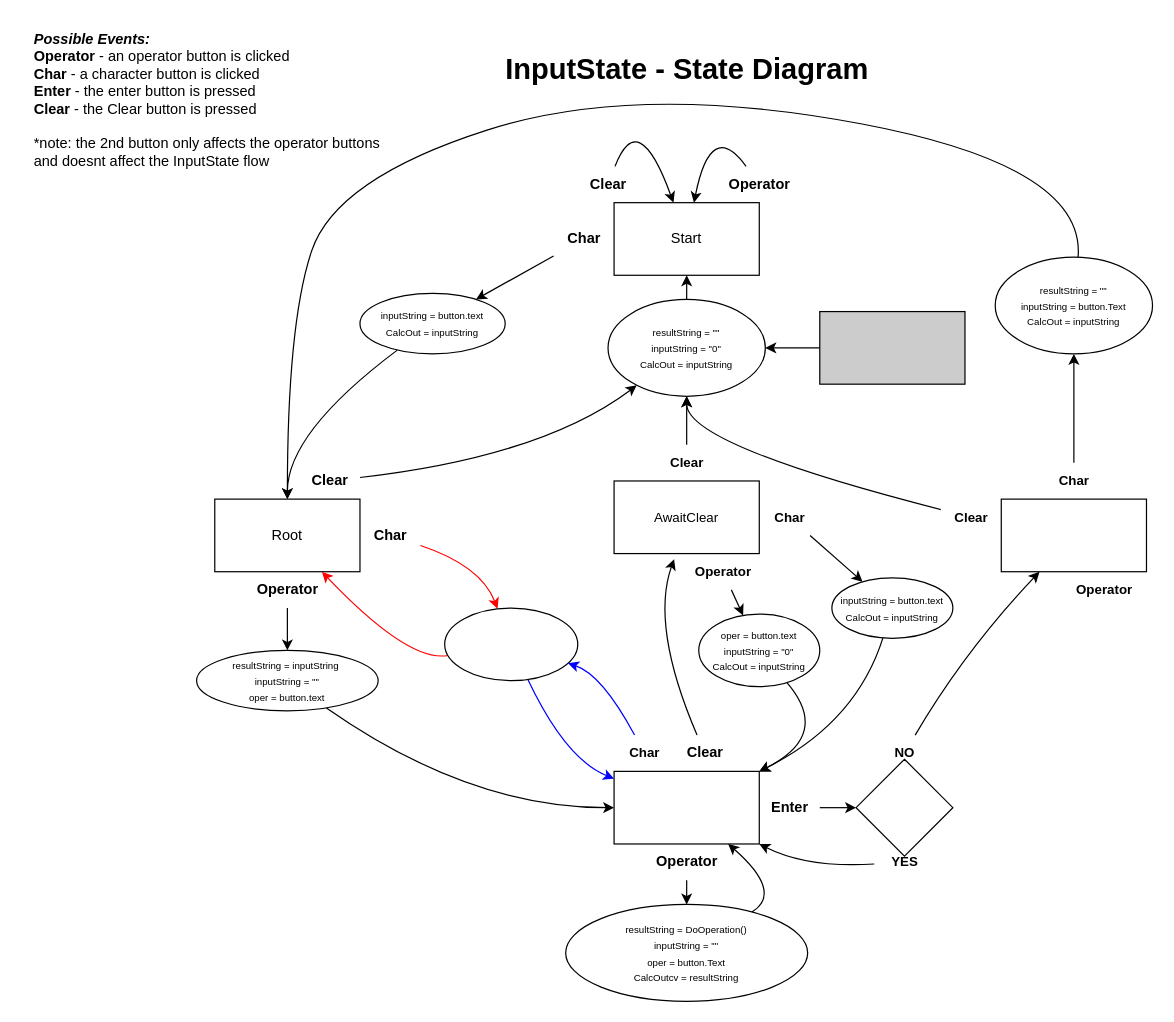
The diagram is 1174 pixels wide and 1022 high, and some of its shapes have lost their labels. Each missing label, with the centre of its shape:
"Child" belongs at (x=686, y=807).
"Display" belongs at (x=1073, y=535).
"Initialization: MainPage()" belongs at (x=892, y=347).
"inputString += button.text CalcOut = inputString" belongs at (x=510, y=644).
"inputString is Empty?" belongs at (x=904, y=807).
